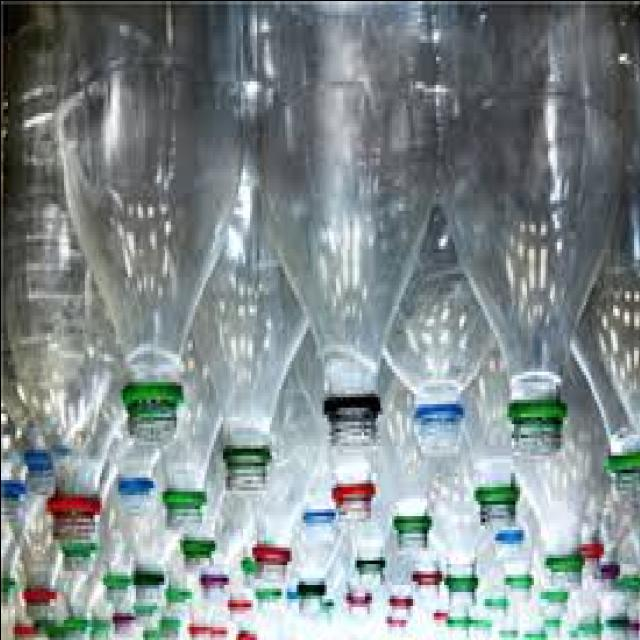neck: (100, 249, 202, 442), (302, 272, 399, 449), (490, 298, 589, 459), (203, 366, 292, 493), (397, 346, 479, 461), (48, 434, 108, 542), (599, 379, 640, 511), (467, 457, 524, 531), (157, 471, 214, 536), (392, 469, 435, 553), (334, 458, 382, 531), (542, 503, 581, 590), (110, 449, 154, 517), (129, 535, 173, 600), (296, 483, 336, 551), (441, 531, 477, 604), (250, 524, 291, 585), (22, 564, 62, 621), (52, 535, 99, 578), (293, 562, 332, 613), (23, 431, 47, 502), (1, 465, 27, 529), (581, 501, 600, 588), (354, 546, 388, 588), (601, 520, 620, 589), (193, 566, 231, 600), (105, 555, 130, 605), (181, 535, 214, 572), (620, 538, 639, 598), (388, 583, 416, 623), (491, 524, 528, 554), (344, 588, 374, 625), (221, 591, 255, 621), (481, 587, 511, 620), (413, 566, 441, 601), (541, 585, 572, 616), (254, 584, 283, 615), (504, 566, 533, 596)
